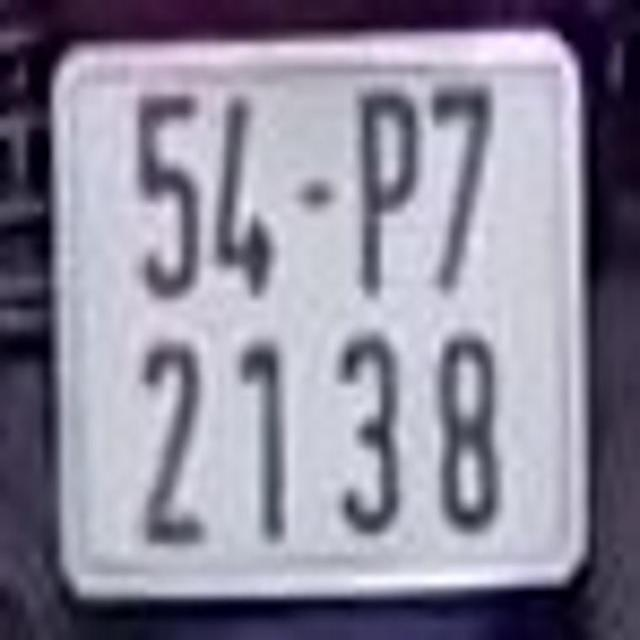1: (234, 345, 297, 537)
2: (142, 342, 209, 542)
3: (338, 335, 402, 532)
4: (211, 94, 282, 292)
5: (133, 92, 206, 295)
7: (429, 87, 491, 292)
8: (440, 338, 502, 528)
P: (354, 89, 424, 296)
